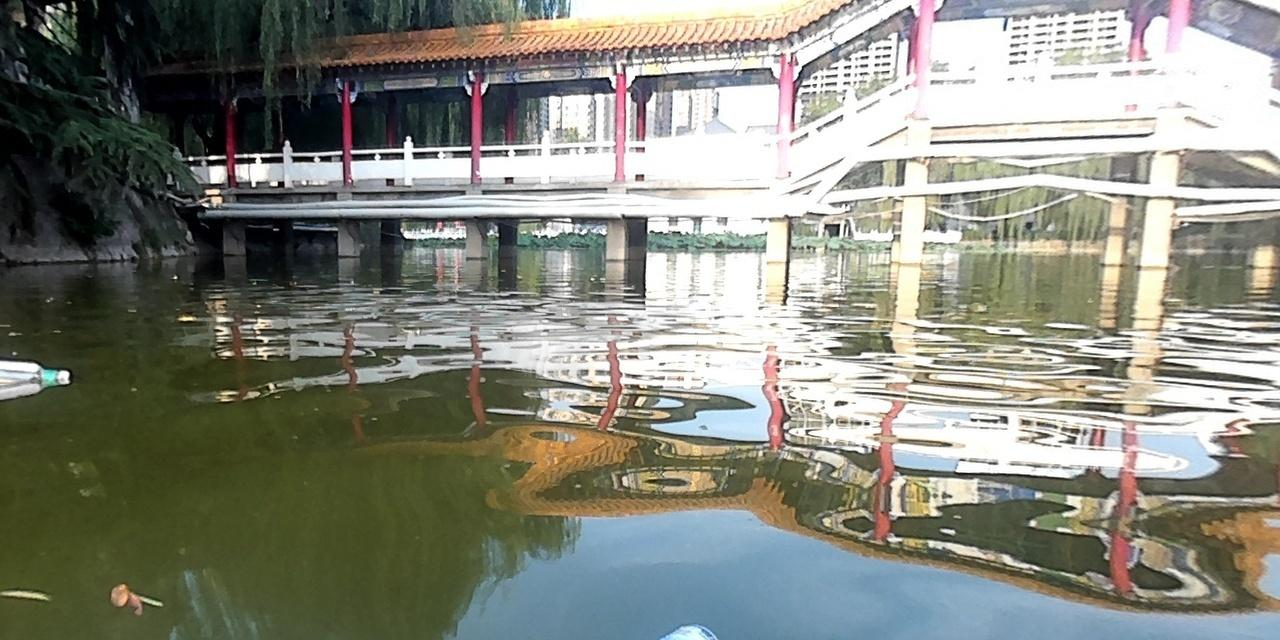bottle: (0, 358, 73, 393)
